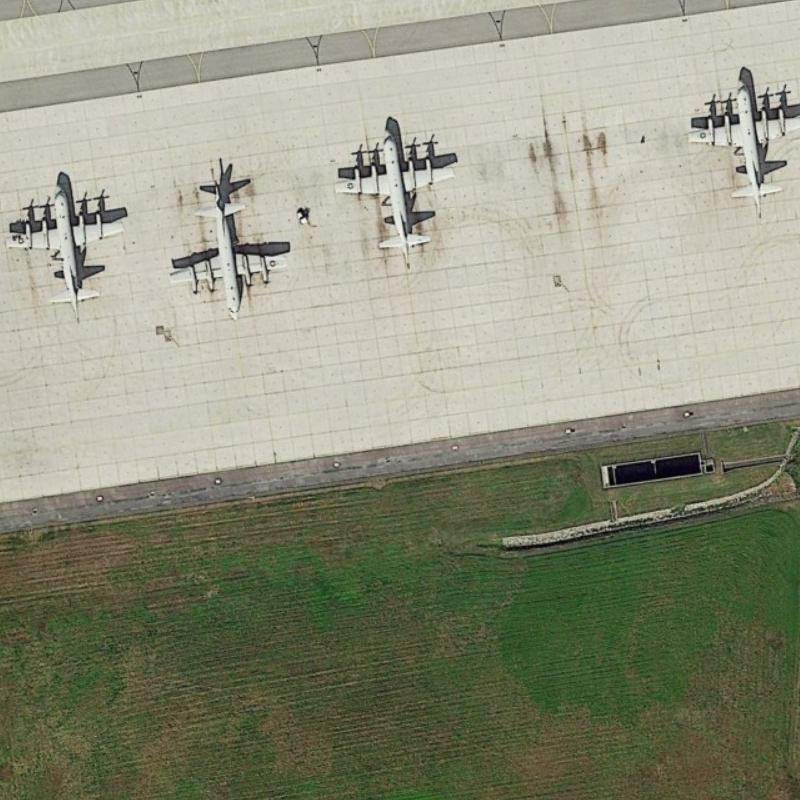A9: (163, 155, 298, 322), (2, 176, 131, 330), (330, 124, 462, 271), (675, 72, 799, 222)
